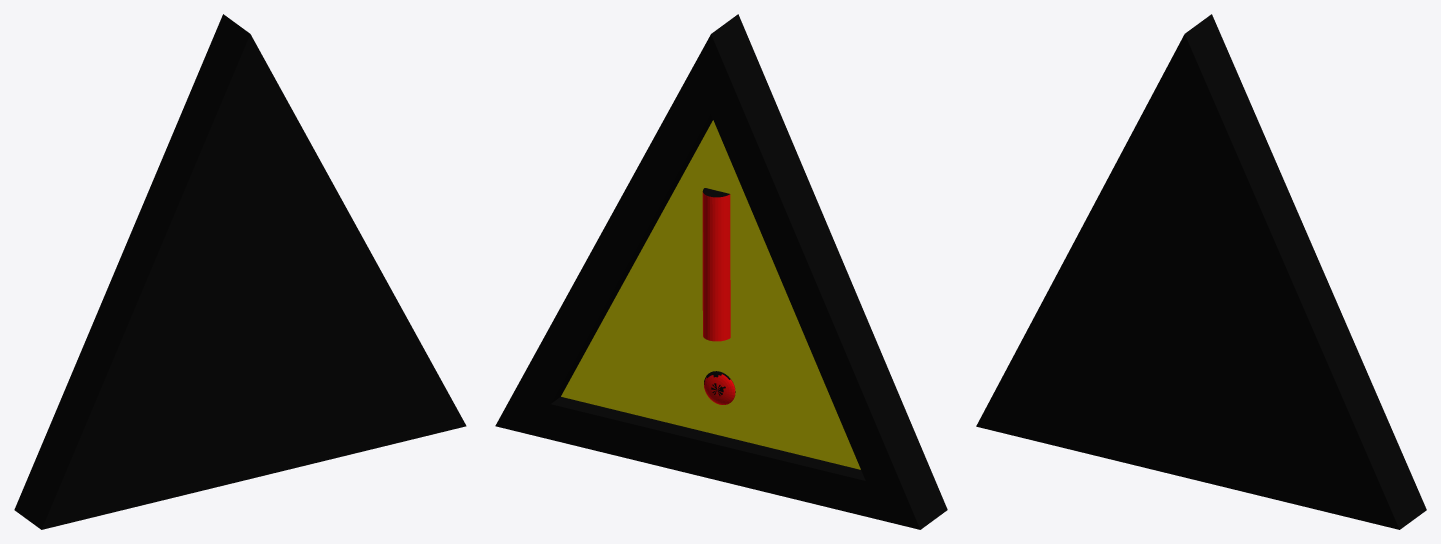
Rendered from Caution2 (1).fbx.
3 views of the same model, side by side, from view 1: azimuth 30°, elevation 25°; view 2: azimuth 150°, elevation 25°; view 3: azimuth 330°, elevation 25° (orthographic).
Visible parts, largest first — view 1: Cube; view 2: Cube; view 3: Cube.
Part boxes in pixels (x1,y1,x2,y2): Cube: [14, 14, 466, 529]; Cube: [495, 14, 947, 529]; Cube: [976, 14, 1426, 529].
Size of the model in its own units: 497 by 497 by 55.65.
